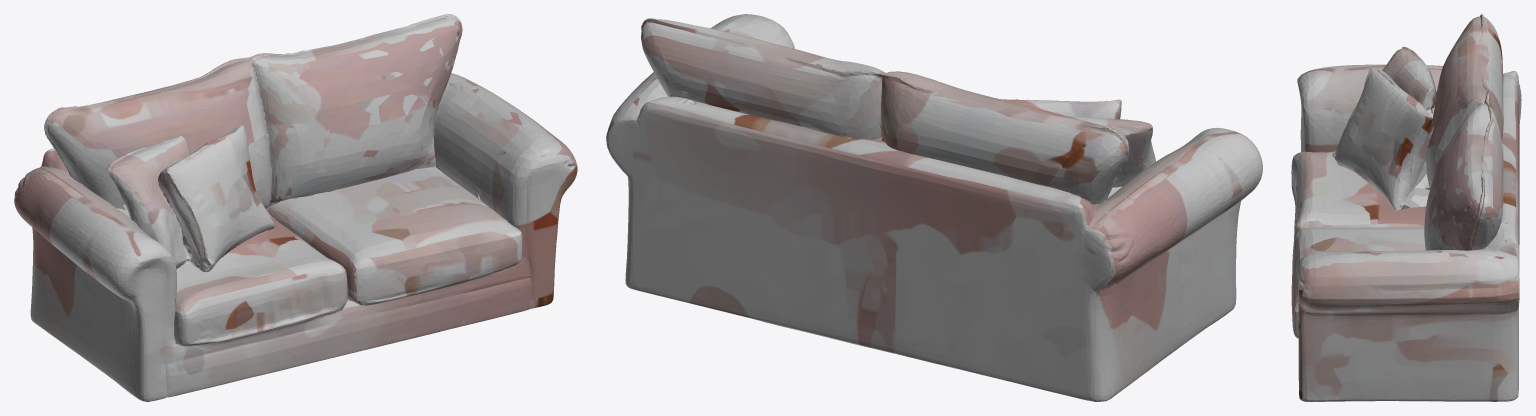
File: sofa.obj
The picture shows the model from 3 angles, left to right: view 1: azimuth 30°, elevation 25°; view 2: azimuth 150°, elevation 25°; view 3: azimuth 270°, elevation 25°; orthographic projection. The views are drawn at different scales.
Bounding box in the file's own units: 2 × 0.9172 × 0.9119.
